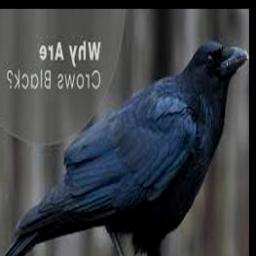Crow: (1, 42, 249, 256)
